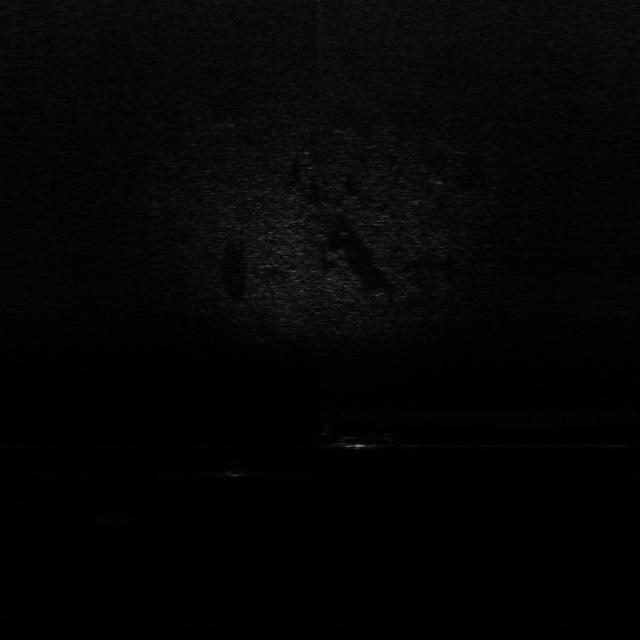ball: (218, 460, 252, 479)
circle cage: (92, 507, 144, 528)
human body: (318, 427, 407, 452)
